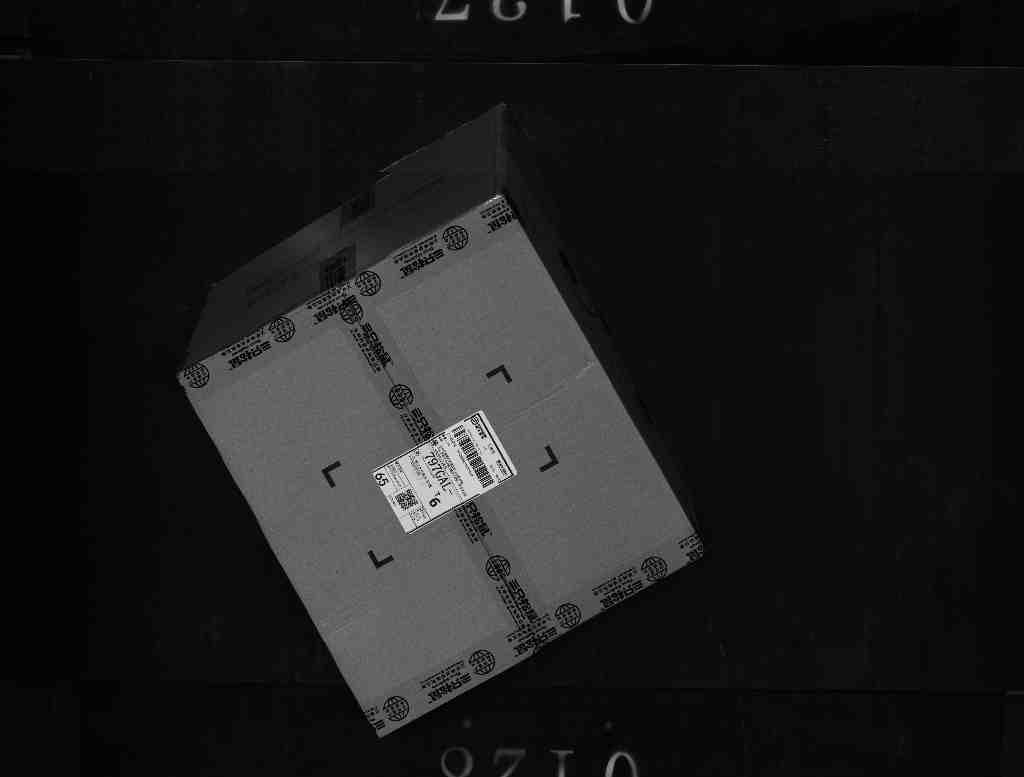box: (172, 182, 706, 739)
